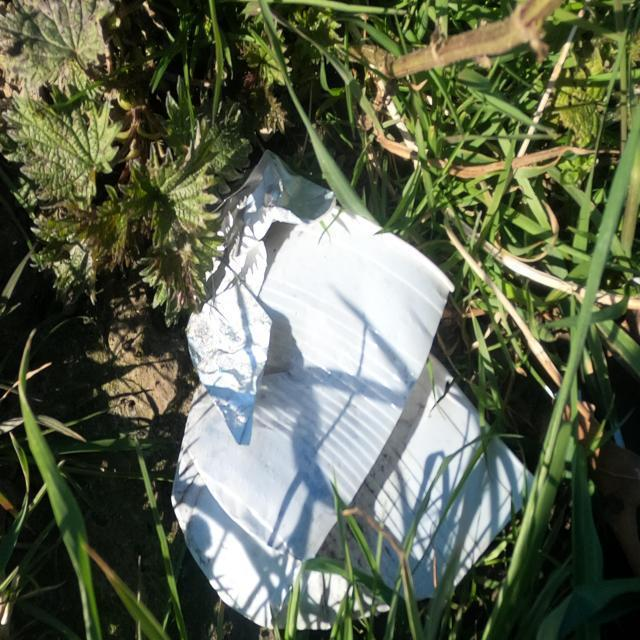Cup: (168, 146, 540, 635)
